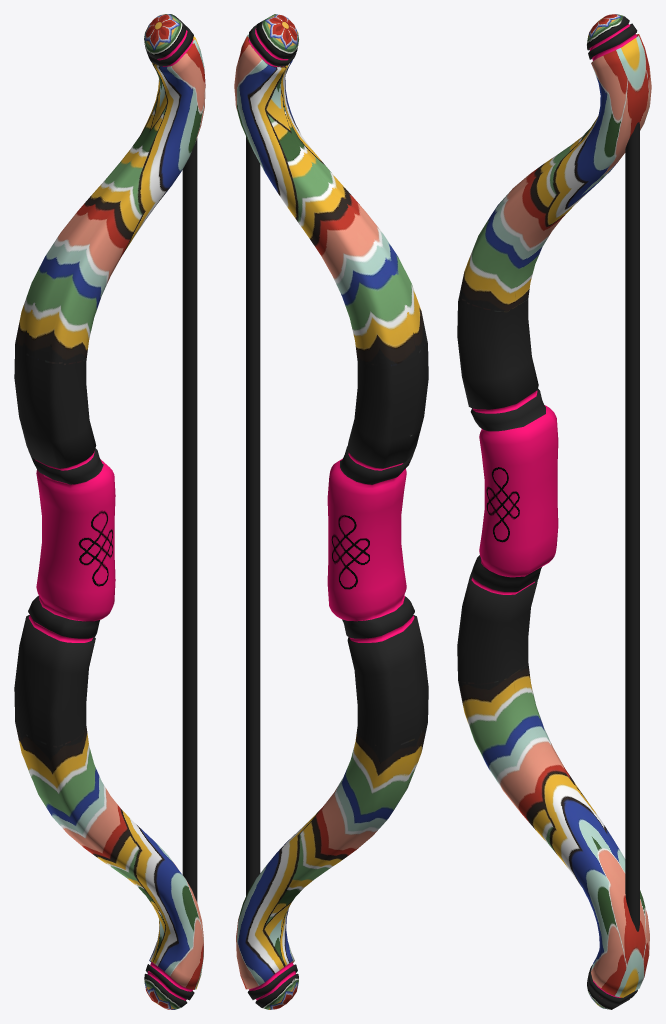
The model's file is bow_v1.glb.
3 renders of one model, left to right at view 1: azimuth 30°, elevation 25°; view 2: azimuth 150°, elevation 25°; view 3: azimuth 330°, elevation 25°, orthographic.
Parts seen in each view (by area): view 1: bow.001; view 2: bow.001; view 3: bow.001.
Part boxes in pixels (x1,y1,x2,y2): bow.001: (14, 14, 205, 1009); bow.001: (234, 14, 428, 1009); bow.001: (457, 14, 651, 1009).
Size of the model in its own units: 2.21 by 11.69 by 0.9593.
1 material, 1 textured.
